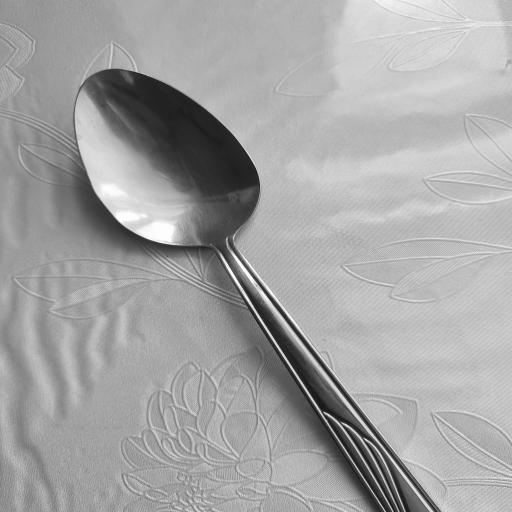spoon: (75, 65, 440, 512)
